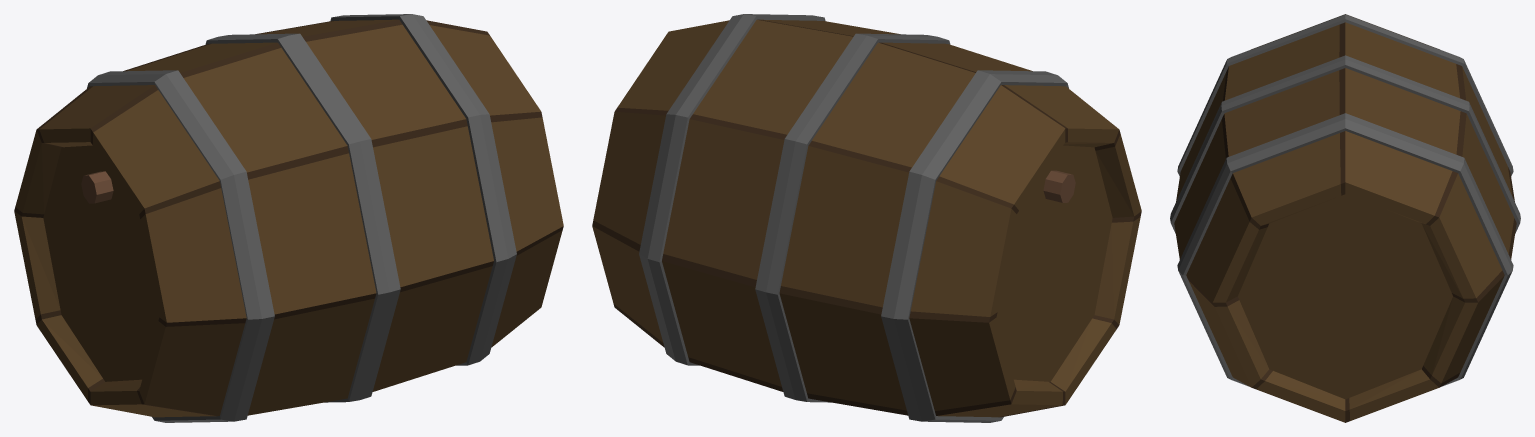
The model's file is Cellar_Barrel.glb.
3 views of the same model, side by side, from view 1: azimuth 30°, elevation 25°; view 2: azimuth 150°, elevation 25°; view 3: azimuth 270°, elevation 25° (orthographic). The views are drawn at different scales.
Visible parts, largest first — view 1: world; view 2: world; view 3: world.
Part boxes in pixels (x1,y1,x2,y2): world: (14, 14, 563, 422); world: (592, 14, 1141, 422); world: (1170, 14, 1520, 422).
Bounding box in the file's own units: 178 × 156 × 156.
